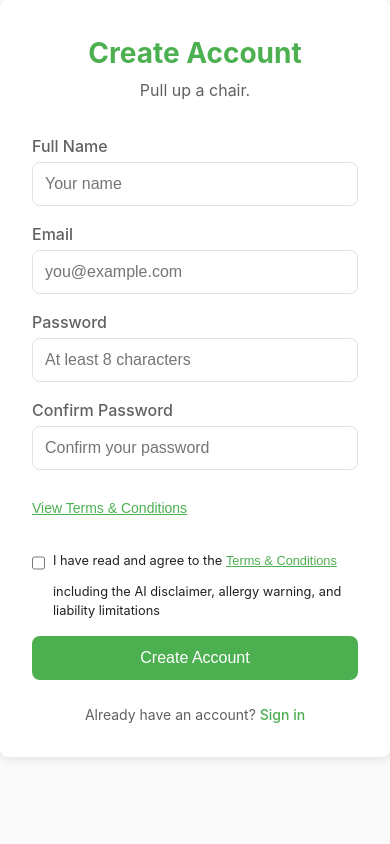
Test case: RegisterView › shows password mismatch validation error
Type "Test User" into the field with id "fullName" at (195, 184), box [32, 162, 358, 206]
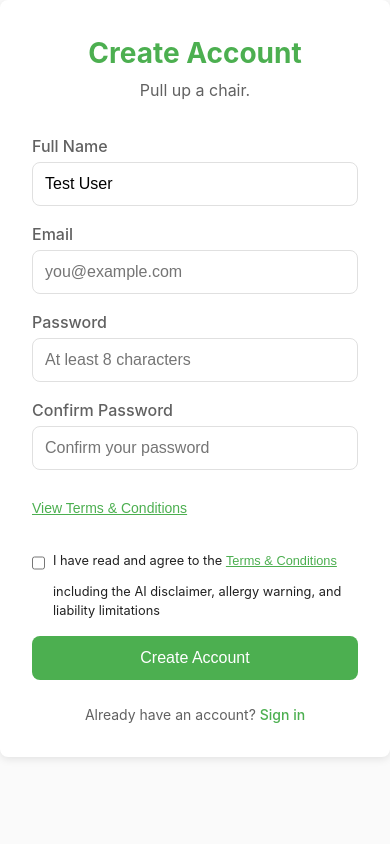
Type "test@example.com" into the field with id "email" at (195, 272), box [32, 250, 358, 294]
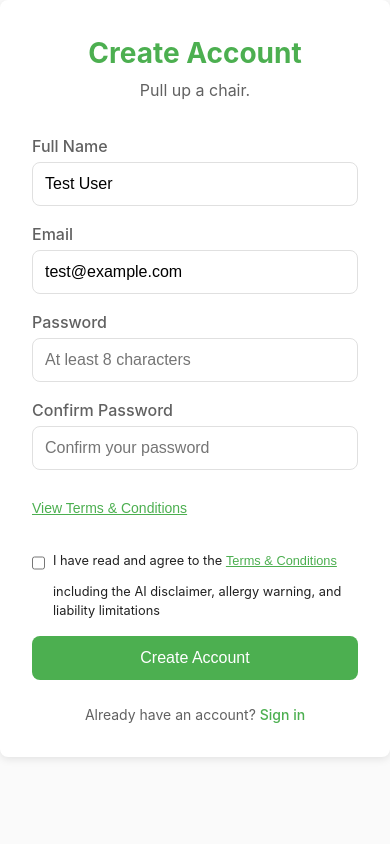
Type "password123" into the password field labelled "Password" at (195, 360), box [32, 338, 358, 382]
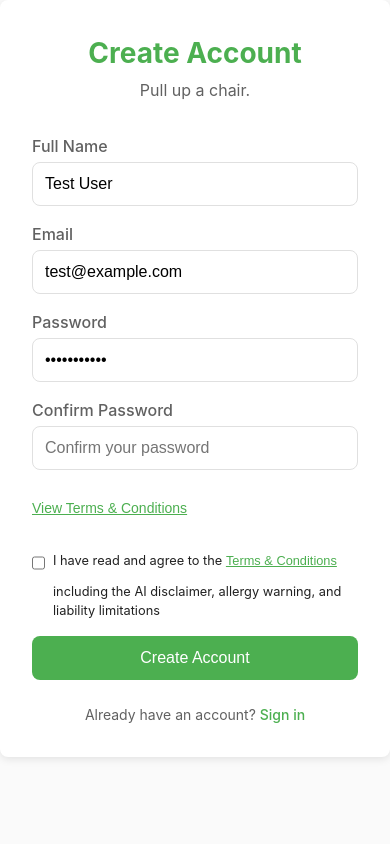
Type "differentpassword" into the password field with id "confirmPassword" at (195, 448), box [32, 426, 358, 470]
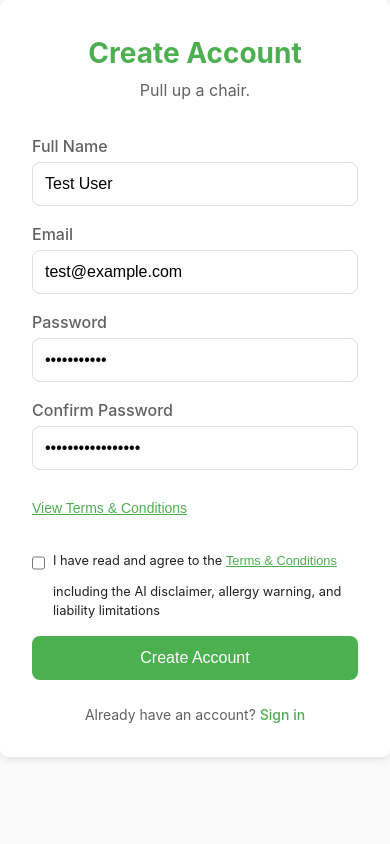
Submit the form, box [32, 134, 358, 680]
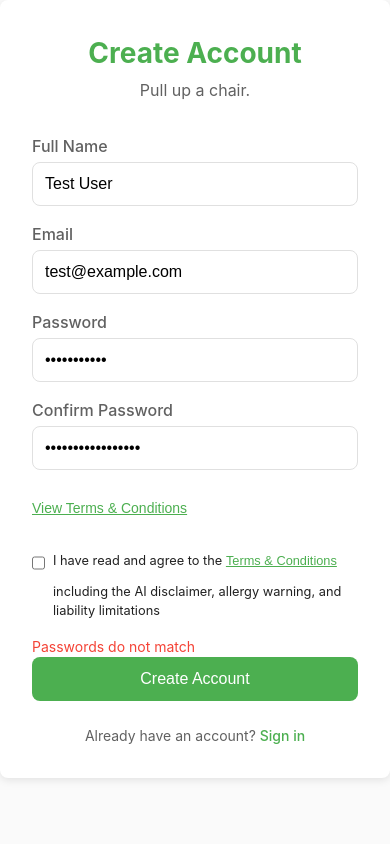
Check: the message with class "error-text" reads "Passwords do not match", box [32, 638, 195, 655]
